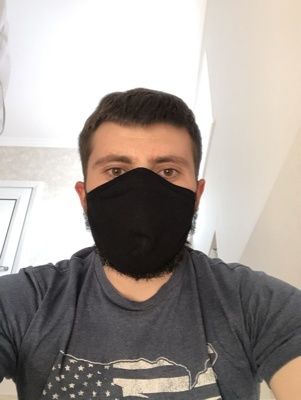good: (86, 144, 198, 281)
